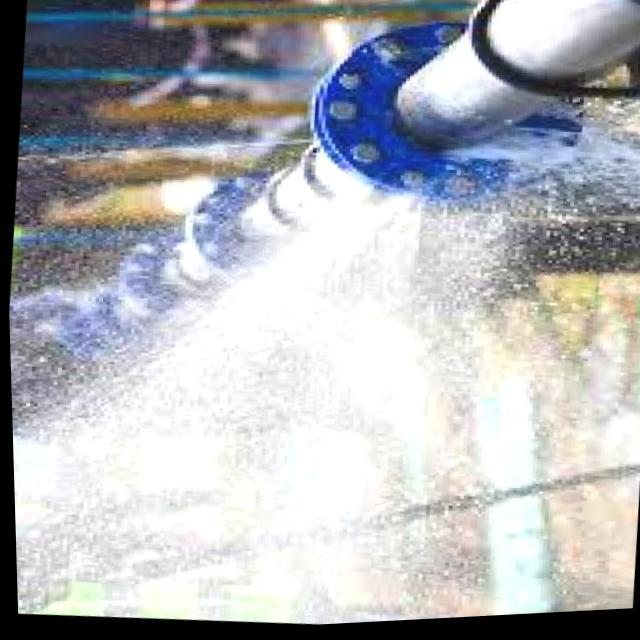leak: (9, 101, 640, 623)
